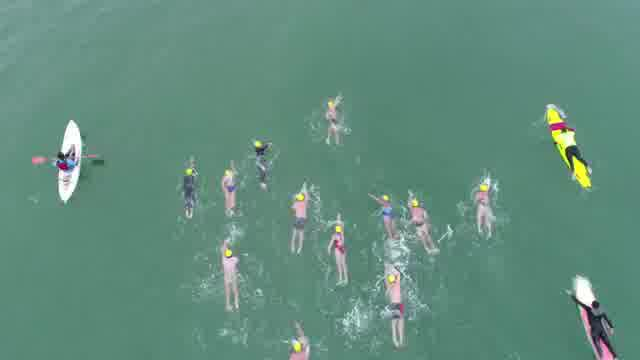human: (406, 192, 438, 255), (471, 170, 498, 240), (381, 270, 405, 347), (373, 193, 401, 250), (220, 242, 242, 314), (331, 221, 353, 288), (288, 189, 308, 259), (220, 169, 242, 215), (326, 97, 344, 142)
